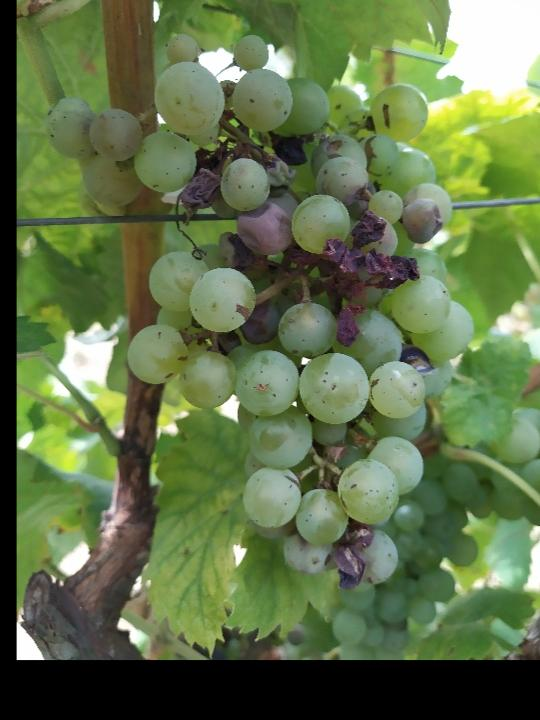grape: (45, 31, 477, 593)
